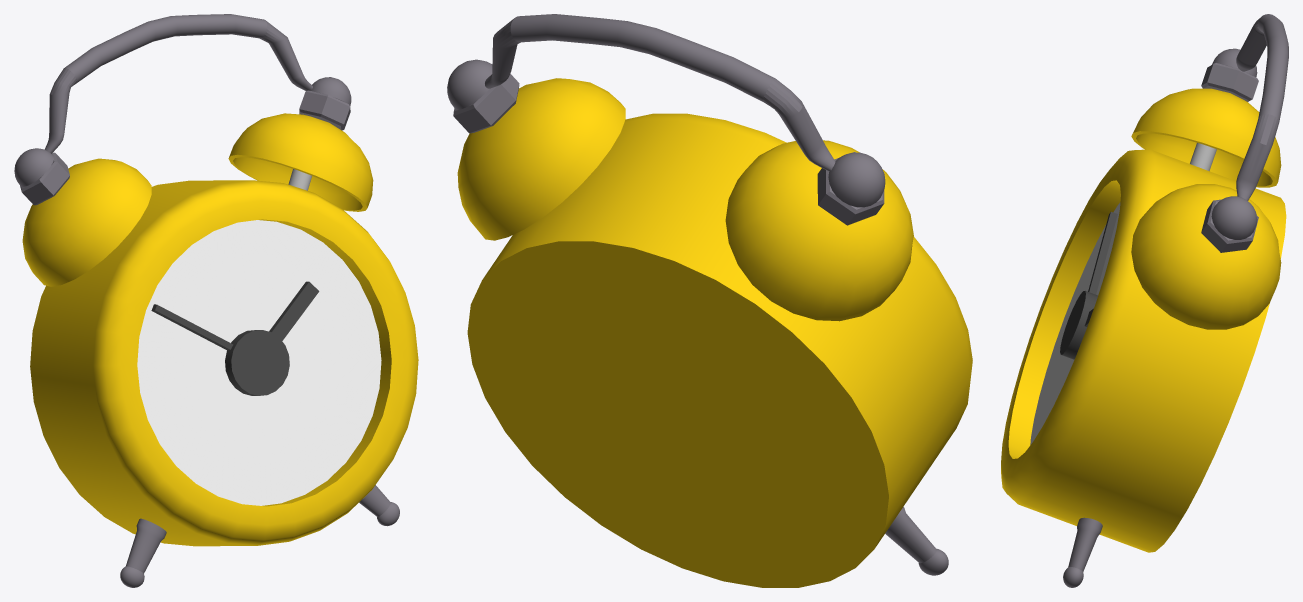
Rendered from timer.glb.
3 renders of one model, left to right at view 1: azimuth 30°, elevation 25°; view 2: azimuth 150°, elevation 25°; view 3: azimuth 270°, elevation 25°, orthographic. The views are drawn at different scales.
Parts seen in each view (by area): view 1: base, metal, arrows; view 2: base, metal; view 3: base, metal, arrows.
Part boxes in pixels (x1=…): base: x1=22, y1=113, x2=418, y2=546; metal: x1=14, y1=14, x2=399, y2=587; arrows: x1=151, y1=281, x2=319, y2=395; base: x1=457, y1=78, x2=972, y2=587; metal: x1=447, y1=14, x2=948, y2=575; base: x1=1001, y1=88, x2=1286, y2=552; metal: x1=1063, y1=14, x2=1288, y2=587; arrows: x1=1060, y1=212, x2=1117, y2=359.
Size of the model in its own units: 0.021 by 0.0287 by 0.0152.
